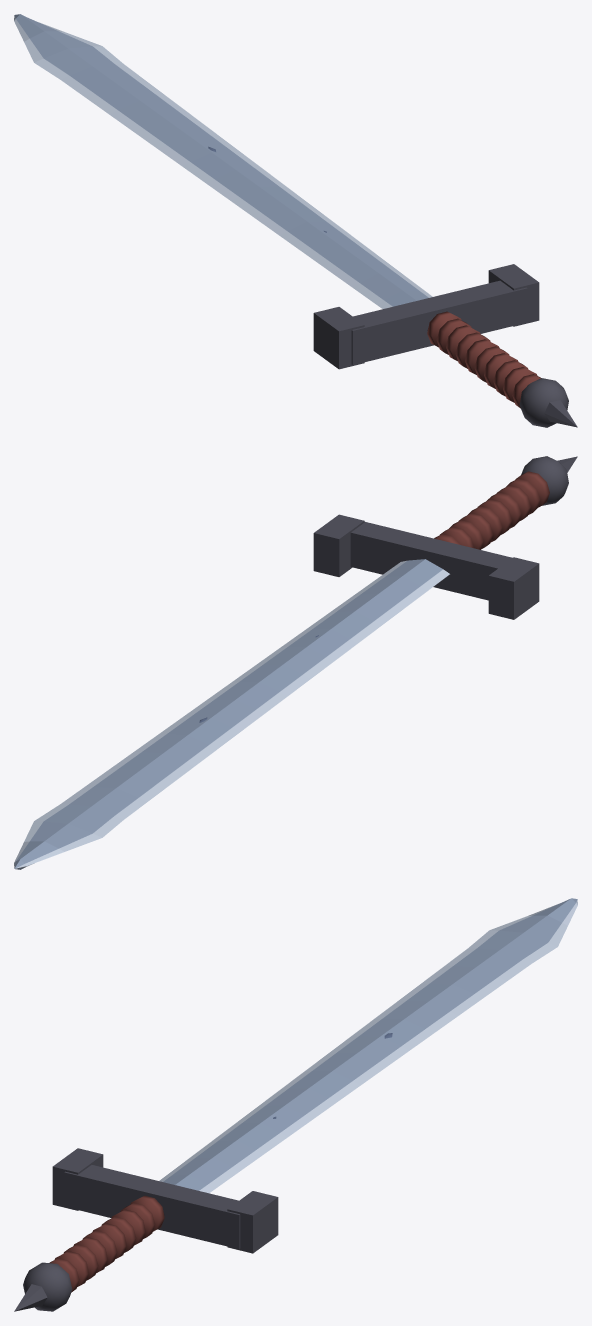
Rendered from weapon_orc_longsword.glb.
3 renders of one model, top to bottom at view 1: azimuth 30°, elevation 25°; view 2: azimuth 150°, elevation 25°; view 3: azimuth 330°, elevation 25°, orthographic.
Visible parts, largest first — view 1: piece; view 2: piece; view 3: piece.
Part boxes in pixels (left/top/right/bottom): piece: left=14, top=14, right=577, bottom=427; piece: left=14, top=456, right=577, bottom=869; piece: left=14, top=898, right=577, bottom=1311.
Bounding box in the file's own units: 0.275 × 0.06 × 1.34.
